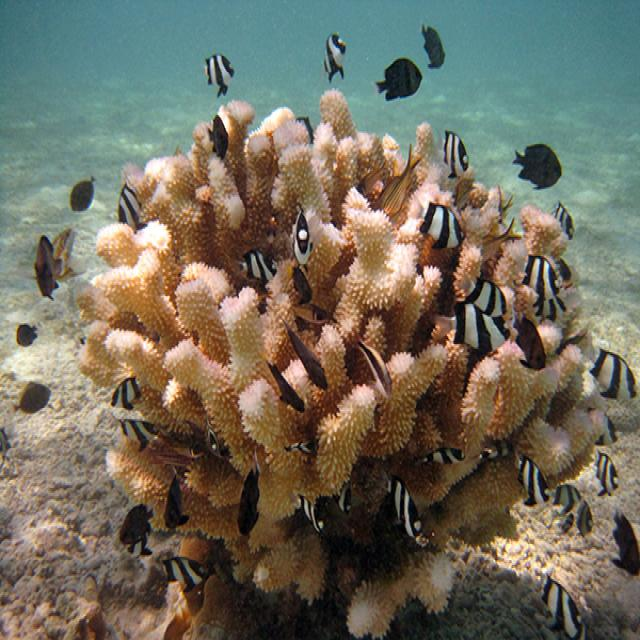Coral: (74, 87, 608, 640)
